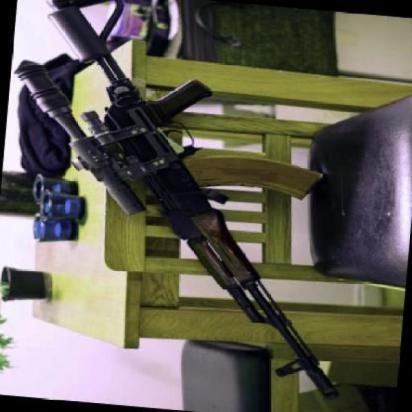Gun: (0, 0, 408, 408)
